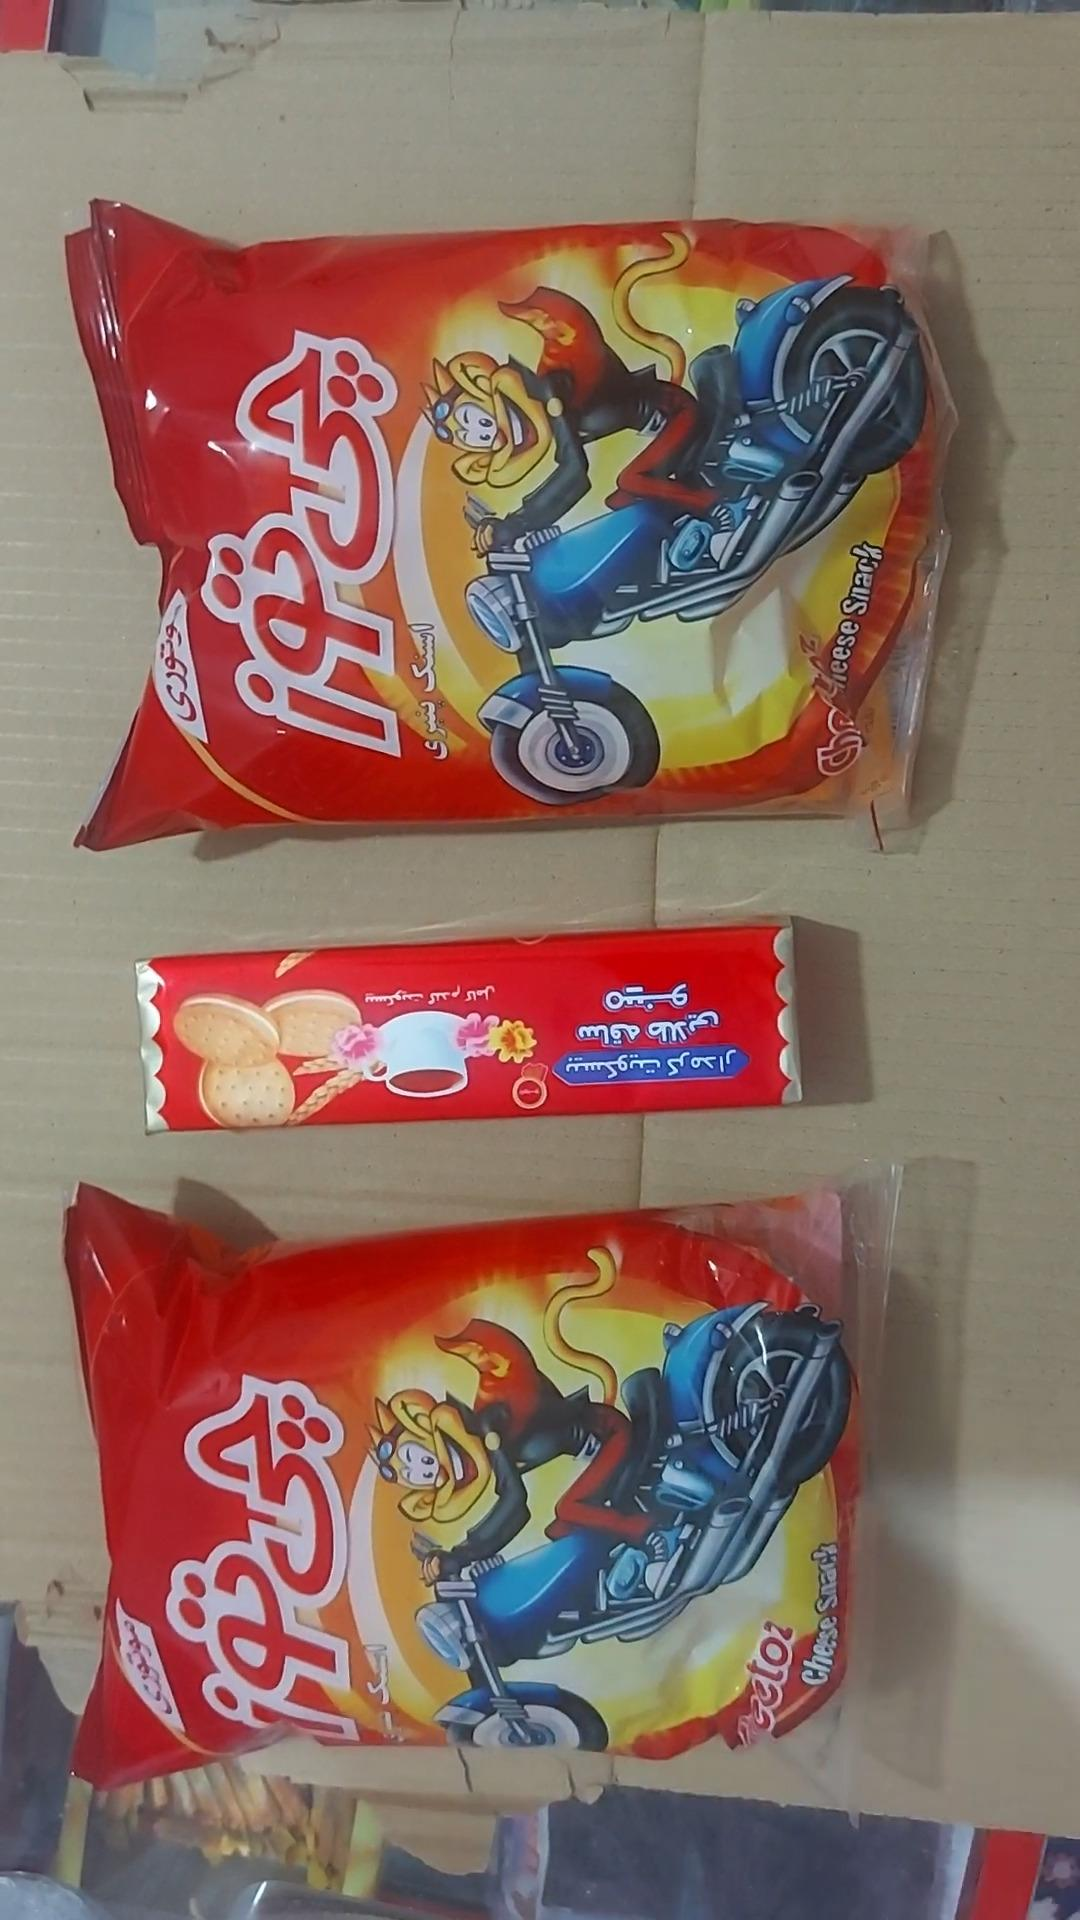Cheetoz snack 90g: (65, 200, 956, 851), (65, 1176, 898, 1801)
Minoo cream biscuit: (137, 922, 802, 1133)
